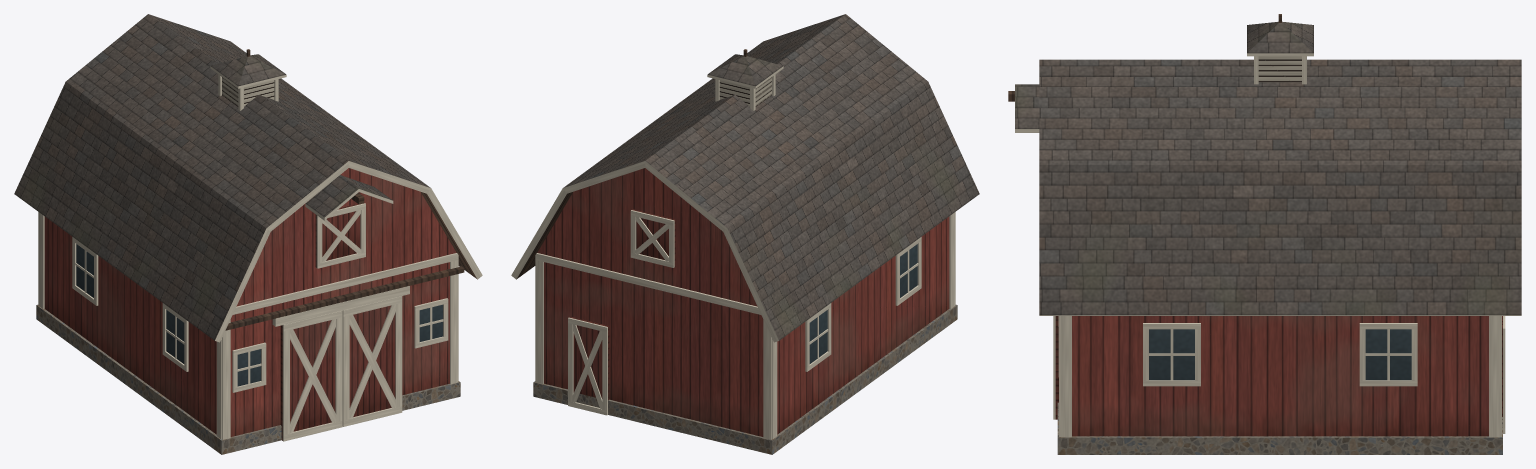
The model's file is barn.fbx.
3 renders of one model, left to right at view 1: azimuth 30°, elevation 25°; view 2: azimuth 150°, elevation 25°; view 3: azimuth 270°, elevation 25°, orthographic. The views are drawn at different scales.
Visible parts, largest first — view 1: Barn; view 2: Barn; view 3: Barn.
Boxes of the visible parts, x1,y1,x2,y2 form: Barn: (14, 14, 482, 454); Barn: (511, 14, 979, 454); Barn: (1008, 14, 1521, 454).
Size of the model in its own units: 6.86 by 7.54 by 9.47.
